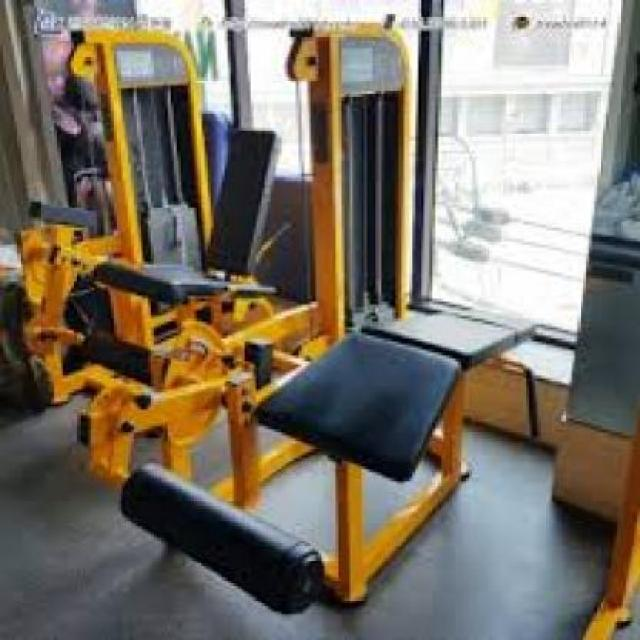reg curl machine: (109, 20, 551, 615)
